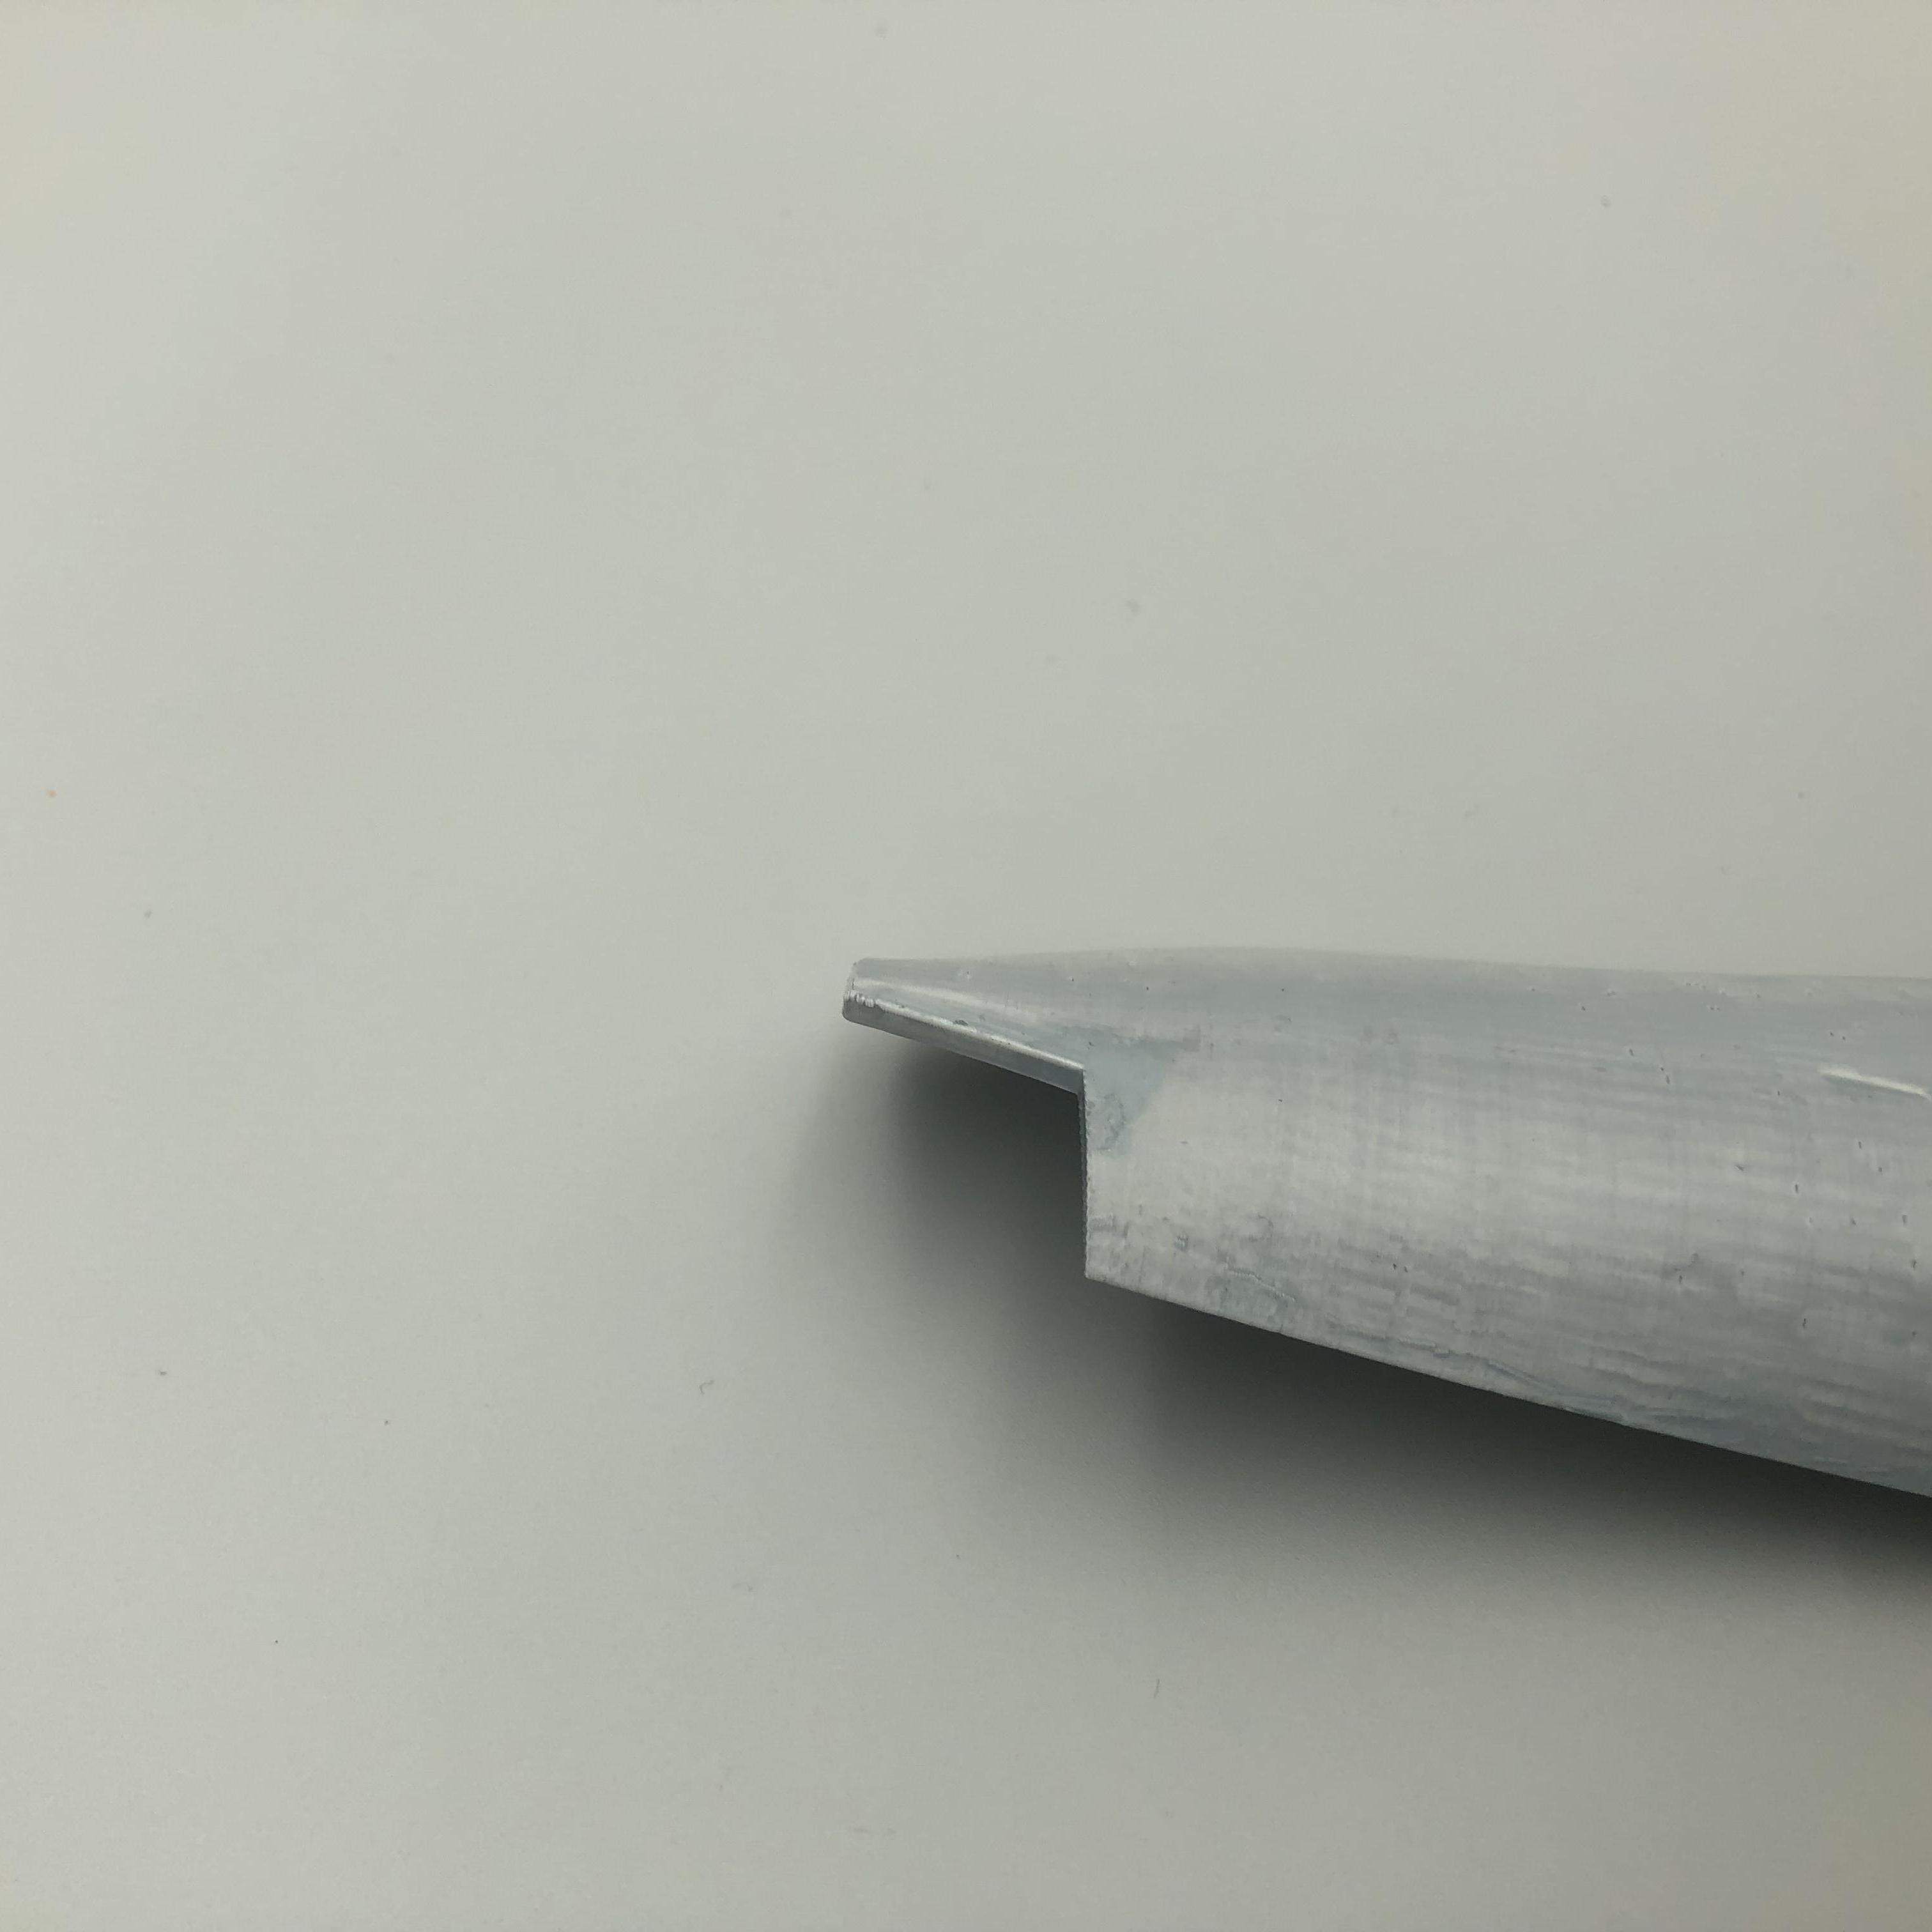fracture: (853, 996, 1127, 1283)
